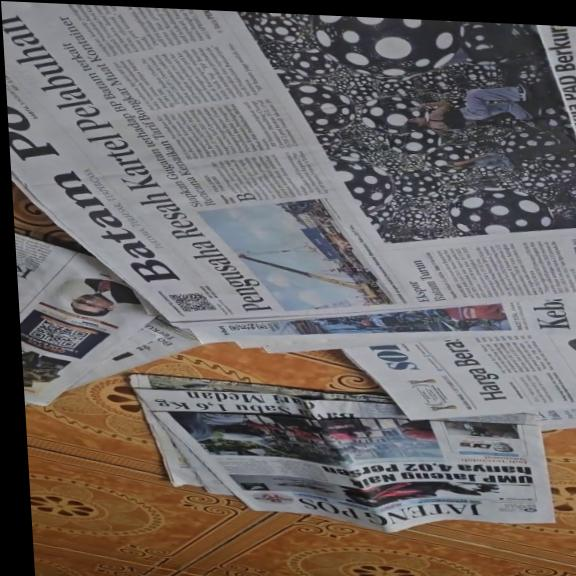Kertas: (13, 11, 576, 414), (131, 373, 555, 539), (21, 234, 207, 412)
